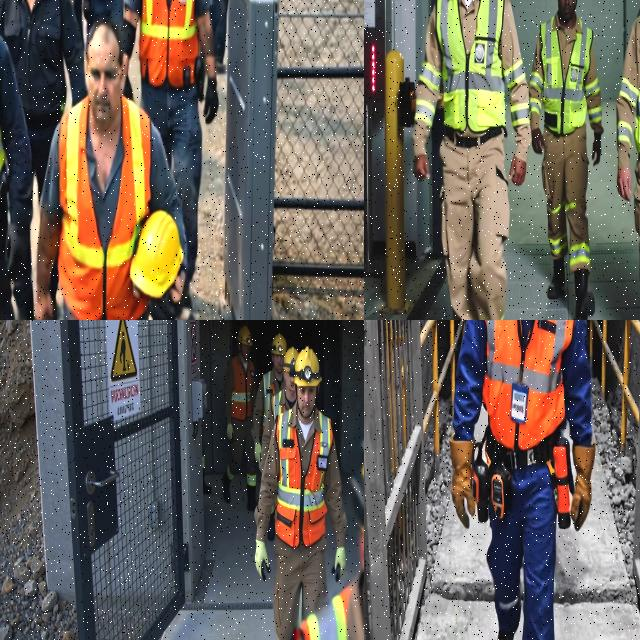Vest: (58, 98, 150, 319), (437, 0, 505, 132), (275, 410, 332, 548), (517, 320, 573, 449), (541, 17, 592, 135), (140, 0, 198, 88), (301, 586, 351, 639), (231, 356, 254, 420), (262, 371, 279, 432), (271, 390, 286, 421), (0, 128, 5, 183), (635, 92, 639, 152)
Worker: (450, 320, 595, 639), (36, 19, 186, 319), (413, 0, 530, 319), (123, 0, 218, 319), (255, 347, 346, 639), (530, 0, 602, 319), (0, 0, 85, 197), (294, 465, 363, 639), (0, 37, 32, 319), (222, 326, 256, 510), (617, 15, 639, 237), (260, 347, 297, 472), (252, 333, 287, 462), (215, 0, 227, 73), (74, 0, 83, 43), (211, 0, 221, 34), (70, 0, 74, 4)
helmet: (130, 210, 183, 298), (294, 347, 321, 387), (351, 465, 363, 531), (283, 347, 298, 376), (270, 333, 286, 356), (237, 325, 252, 347)
